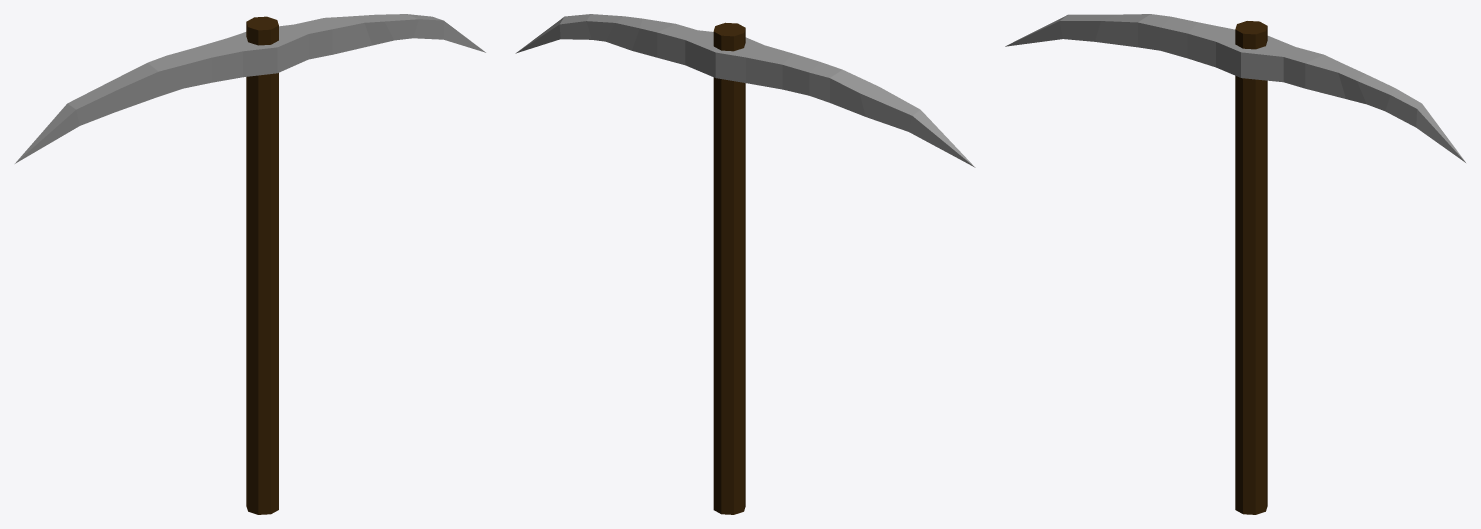
File: PickaxeSource.fbx
3 renders of one model, left to right at view 1: azimuth 30°, elevation 25°; view 2: azimuth 150°, elevation 25°; view 3: azimuth 330°, elevation 25°, orthographic.
Visible parts, largest first — view 1: Cylinder, Cube; view 2: Cylinder, Cube; view 3: Cylinder, Cube.
Part boxes in pixels (bbox=[...]): Cylinder: bbox=[246, 16, 278, 514]; Cube: bbox=[15, 14, 485, 163]; Cylinder: bbox=[713, 22, 745, 514]; Cube: bbox=[515, 14, 975, 167]; Cylinder: bbox=[1235, 21, 1267, 514]; Cube: bbox=[1005, 14, 1465, 162].
Bounding box in the file's own units: 3.19 × 3.15 × 0.2879.
